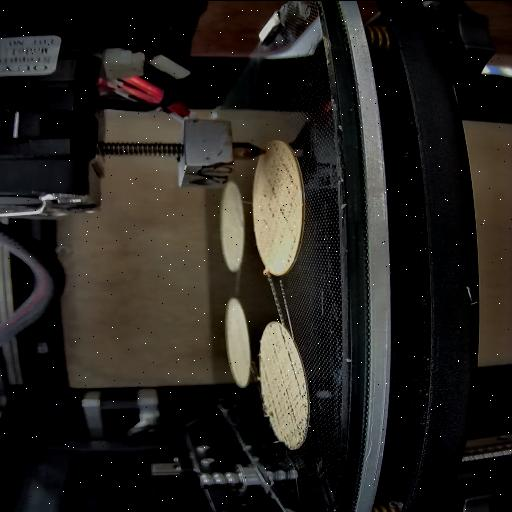under_extrusion: (262, 347, 304, 444), (256, 140, 296, 232), (275, 238, 301, 264), (274, 319, 290, 344)
